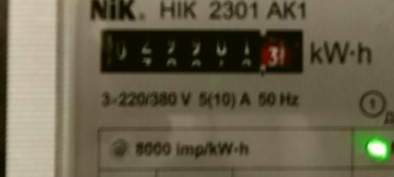0: (211, 32, 226, 57), (110, 38, 127, 59)
1: (236, 33, 250, 56)
2: (135, 35, 152, 54)
3: (263, 44, 277, 66)
9: (186, 33, 201, 56), (161, 33, 174, 55)
screen: (84, 18, 312, 83)
